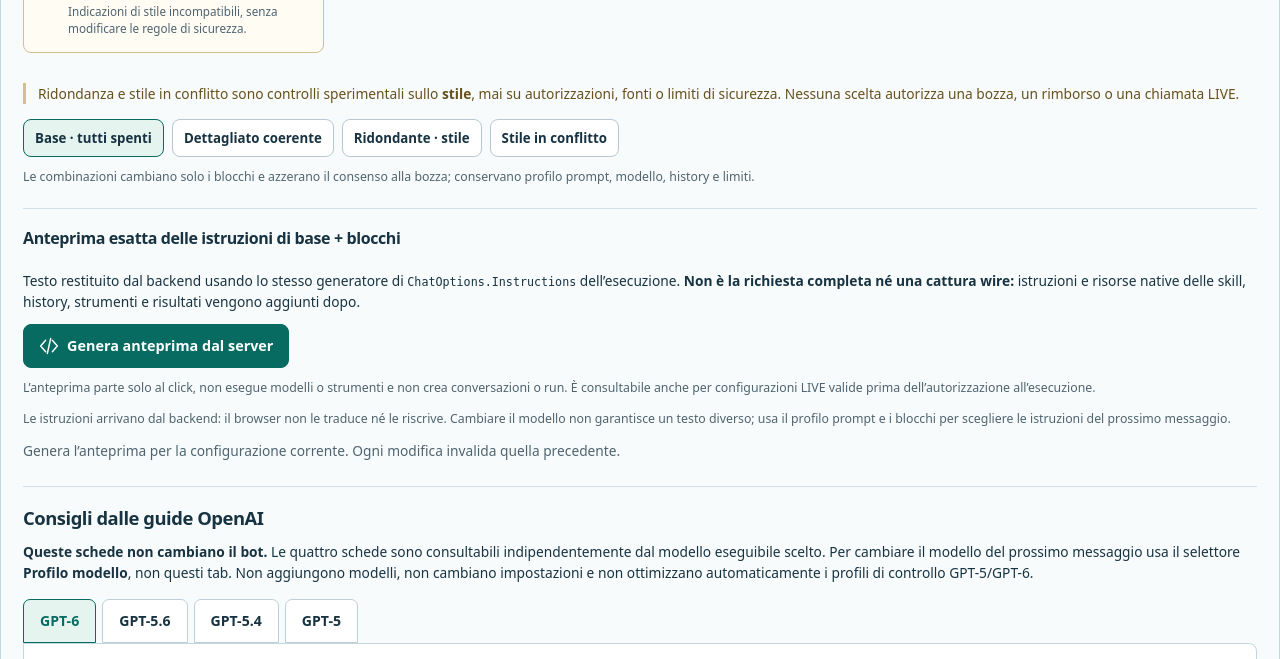
Scenario: laboratorio prompt senza inferenza › gli errori non creano preview finte né retry automatici; il retry è esplicito
(page scrolled)
Click the button "Genera anteprima dal server" at (156, 346), box left=23, top=324, right=289, bottom=368
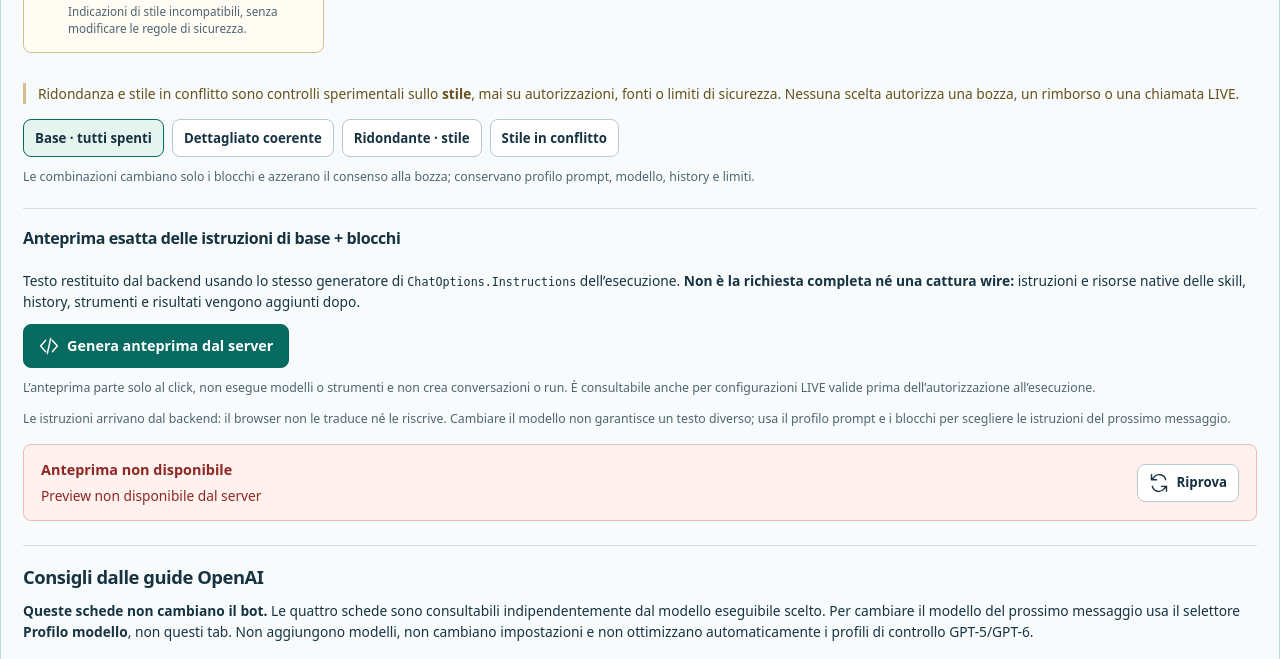
expect the message "Anteprima non disponibile Preview non disponibile dal server Riprova" is shown: met, box left=23, top=444, right=1257, bottom=521
expect the text "Anteprima non disponibile" is shown: met, box left=41, top=460, right=232, bottom=479
Click the button "Riprova" at (1188, 483), box left=1136, top=464, right=1239, bottom=502
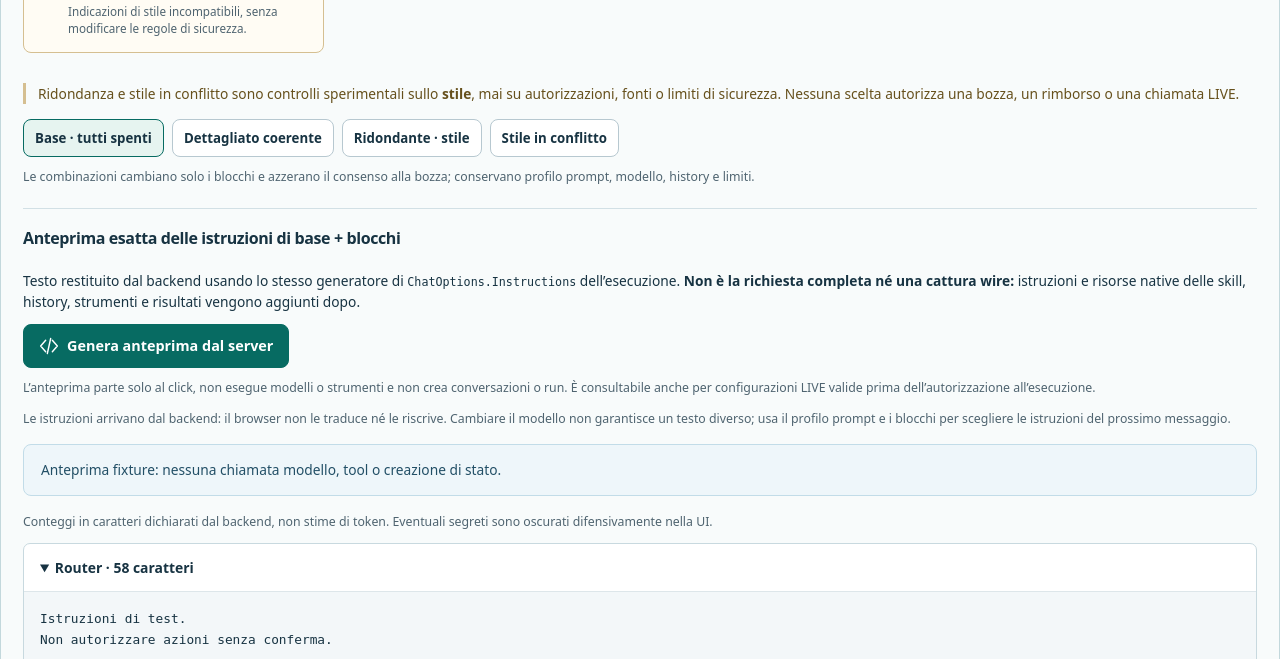
expect the text "Anteprima fixture: nessuna chiamata modello, tool o creazione di stato." is shown: met, box left=23, top=444, right=1257, bottom=496
